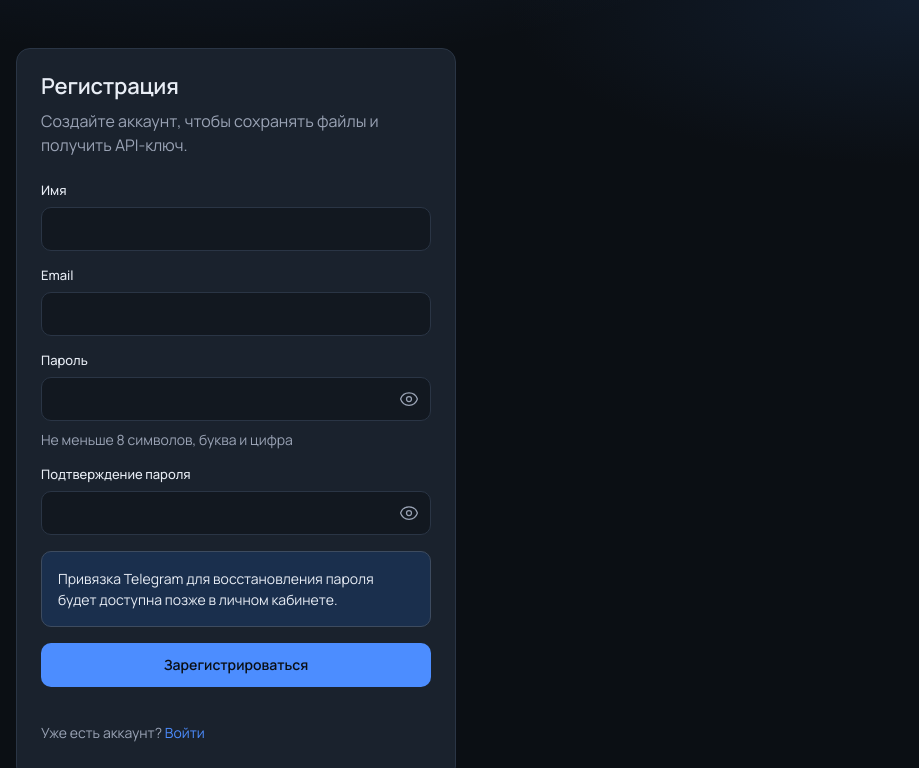
Test case: RegisterPage › отклоняет слабый пароль при регистрации
The width and height of the screenshot is (919, 768).
Type "Иван" into the field labelled "Имя".
click(236, 229); type("Иван")  # box x1=41 y1=207 x2=431 y2=251
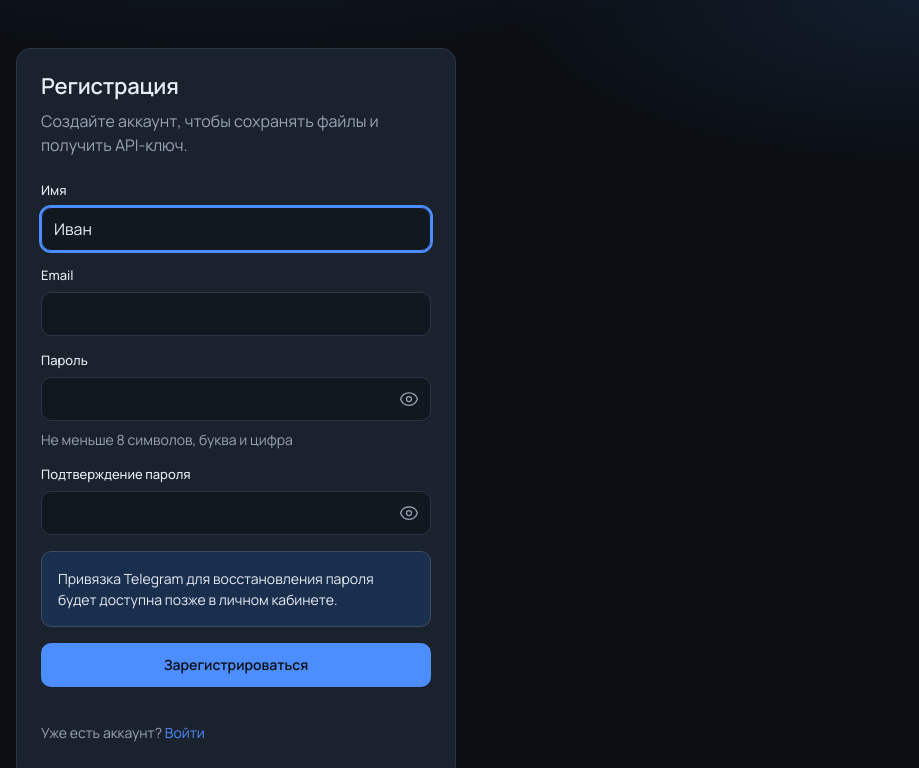
Type "ivan@example.com" into the field labelled "Email".
click(236, 314); type("ivan@example.com")  # box x1=41 y1=292 x2=431 y2=336
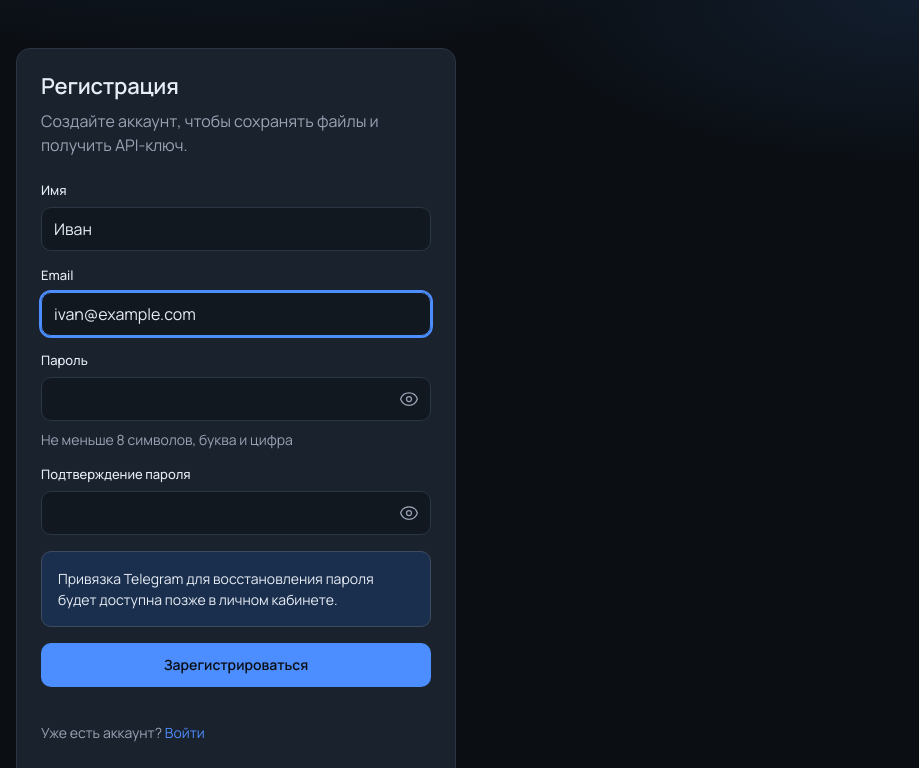
Type "123" into the password field labelled "Пароль".
click(236, 399); type("123")  # box x1=41 y1=377 x2=431 y2=421
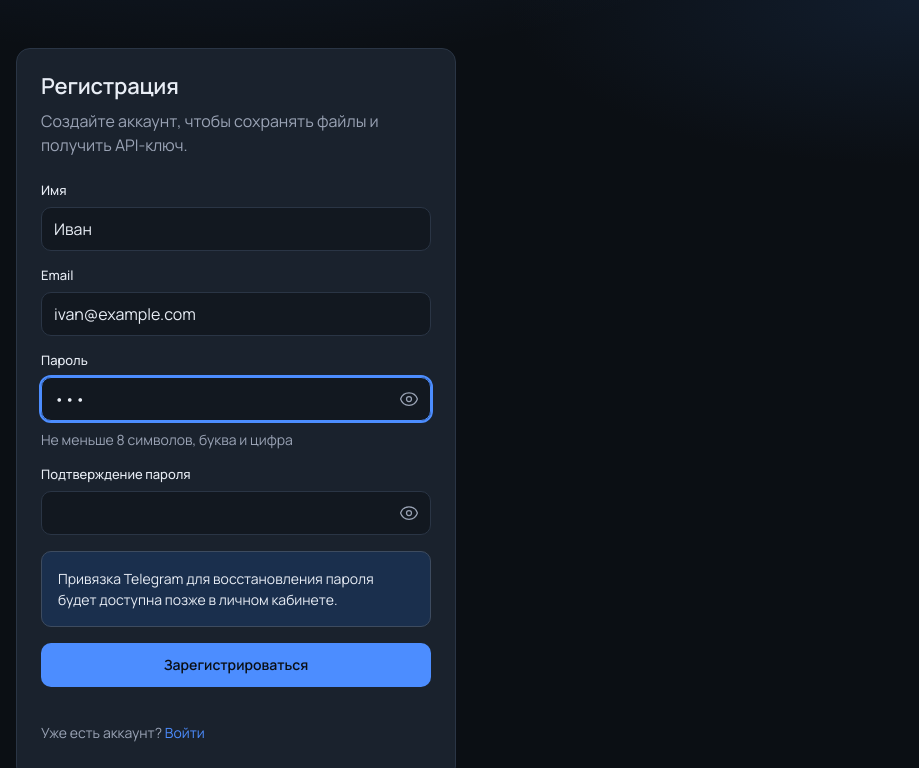
Type "123" into the password field labelled "Подтверждение пароля".
click(236, 513); type("123")  # box x1=41 y1=491 x2=431 y2=535
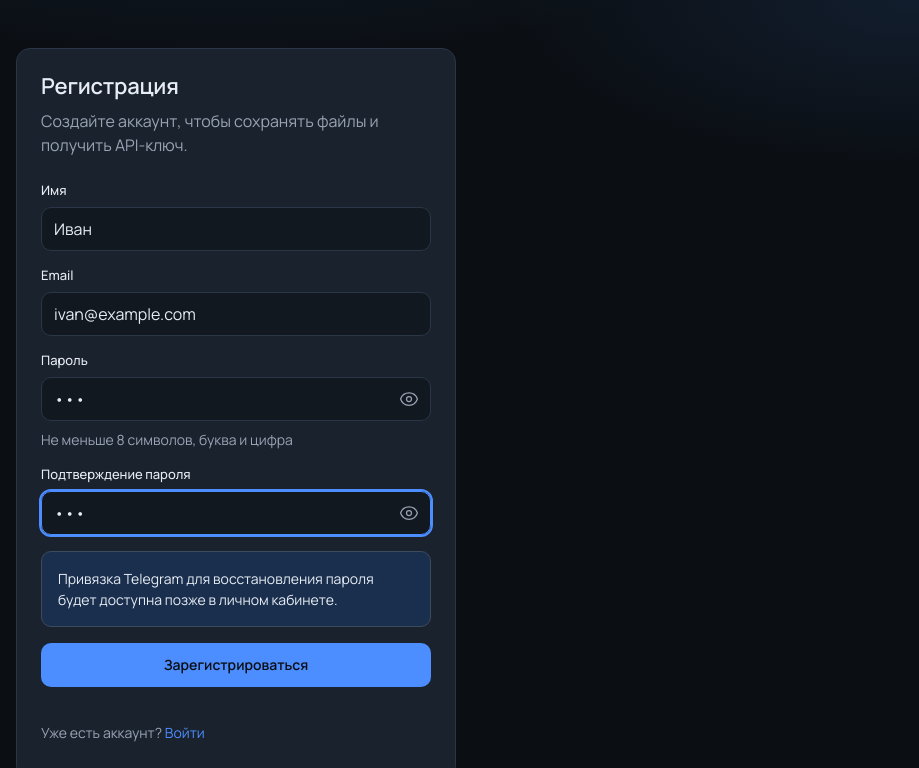
Click the button "Зарегистрироваться".
click(236, 665)  # box x1=41 y1=643 x2=431 y2=687
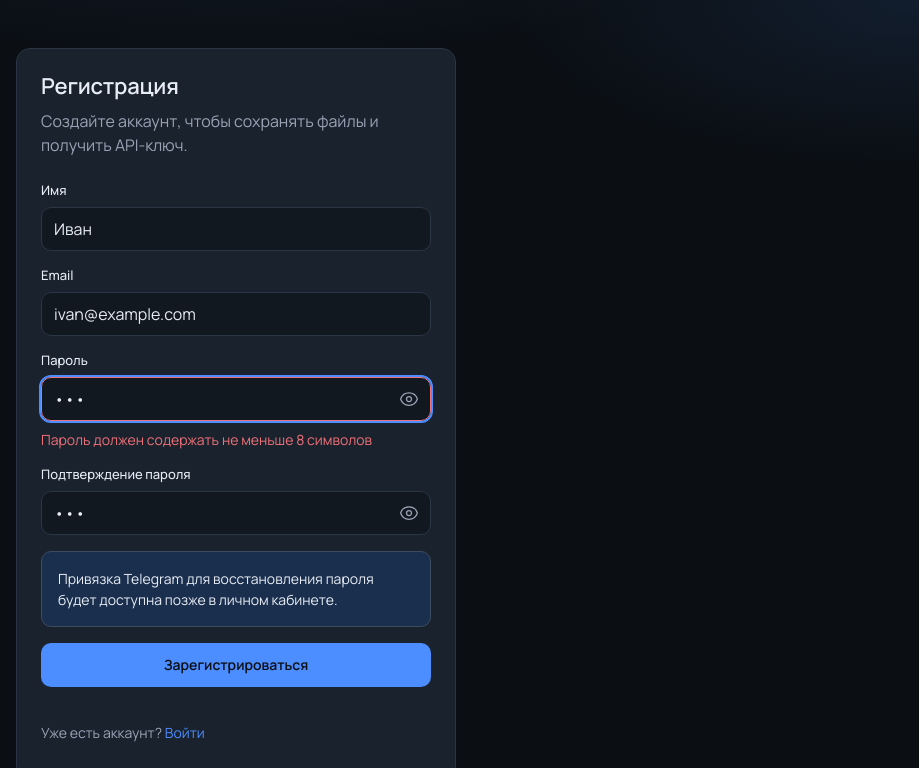
Expected: the text "Пароль должен содержать не меньше 8 символов" is shown, x1=41 y1=430 x2=372 y2=449
